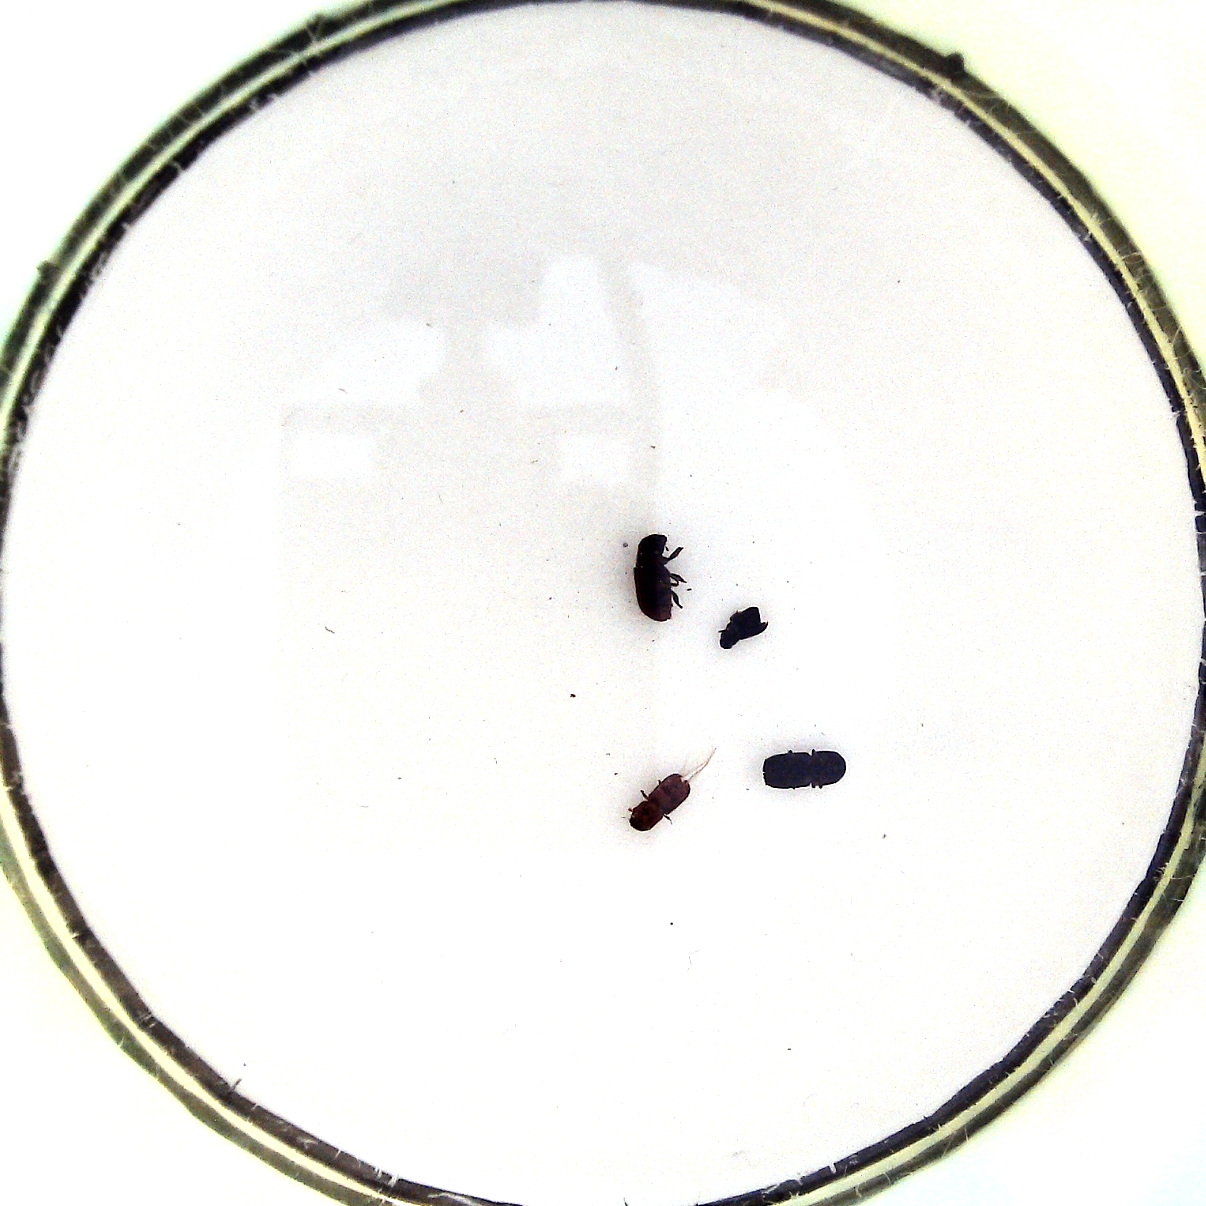Linnaeus: (757, 747, 849, 793)
acuminatus: (626, 765, 707, 834)
armandi: (628, 531, 685, 626)
coleoptera: (711, 601, 769, 650)
